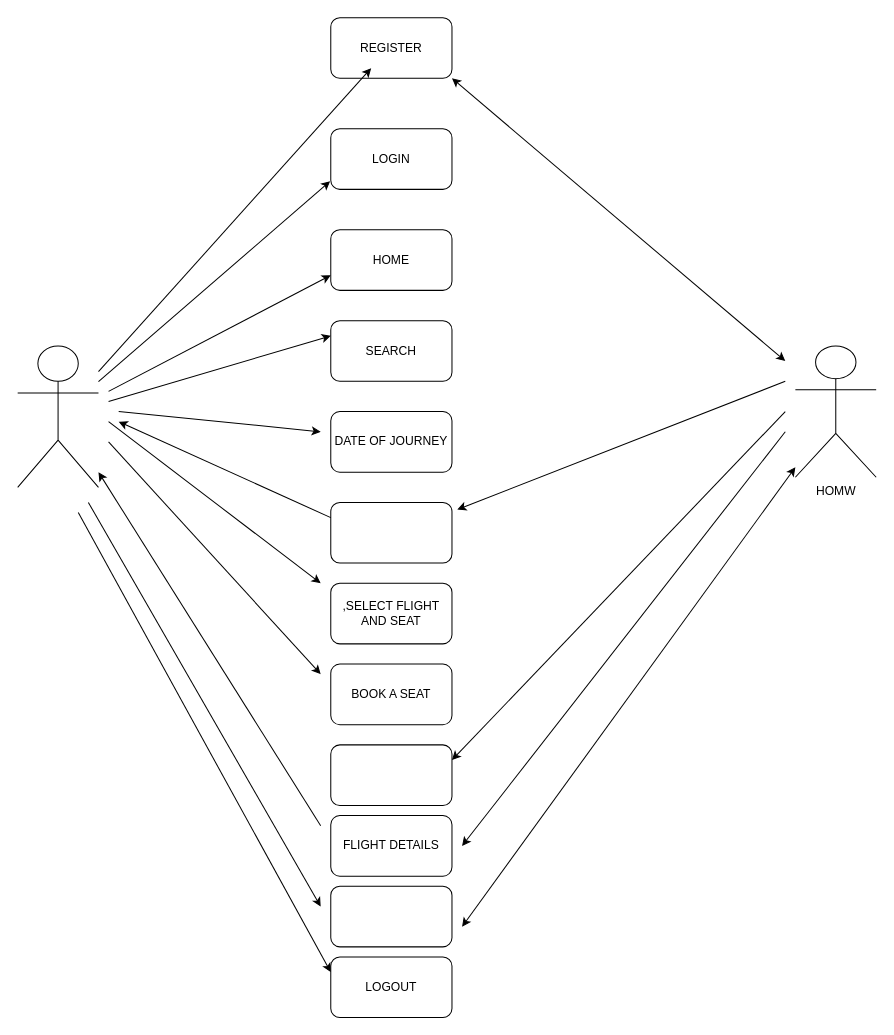
This 894x1035 diagram has some shape labels left out. The shapes that lost their labels are listed below. From the top down, each one's centre as x and y in pixels, then its label:
At (x=57, y=416): "Actor".
At (x=391, y=532): "SHOW AVAILABILITY".
At (x=391, y=774): "RESERVATION SUCCESS".
At (x=391, y=916): "CANCEL RESERVATION".
